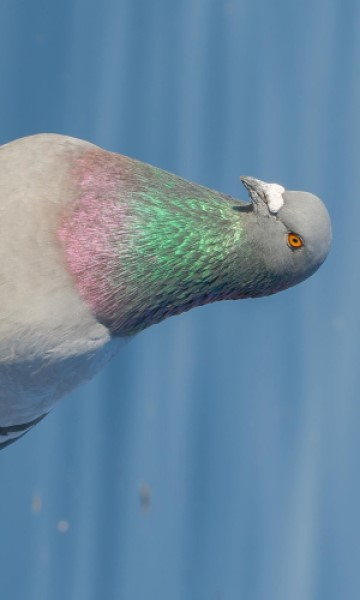pigeon: (0, 130, 335, 349)
